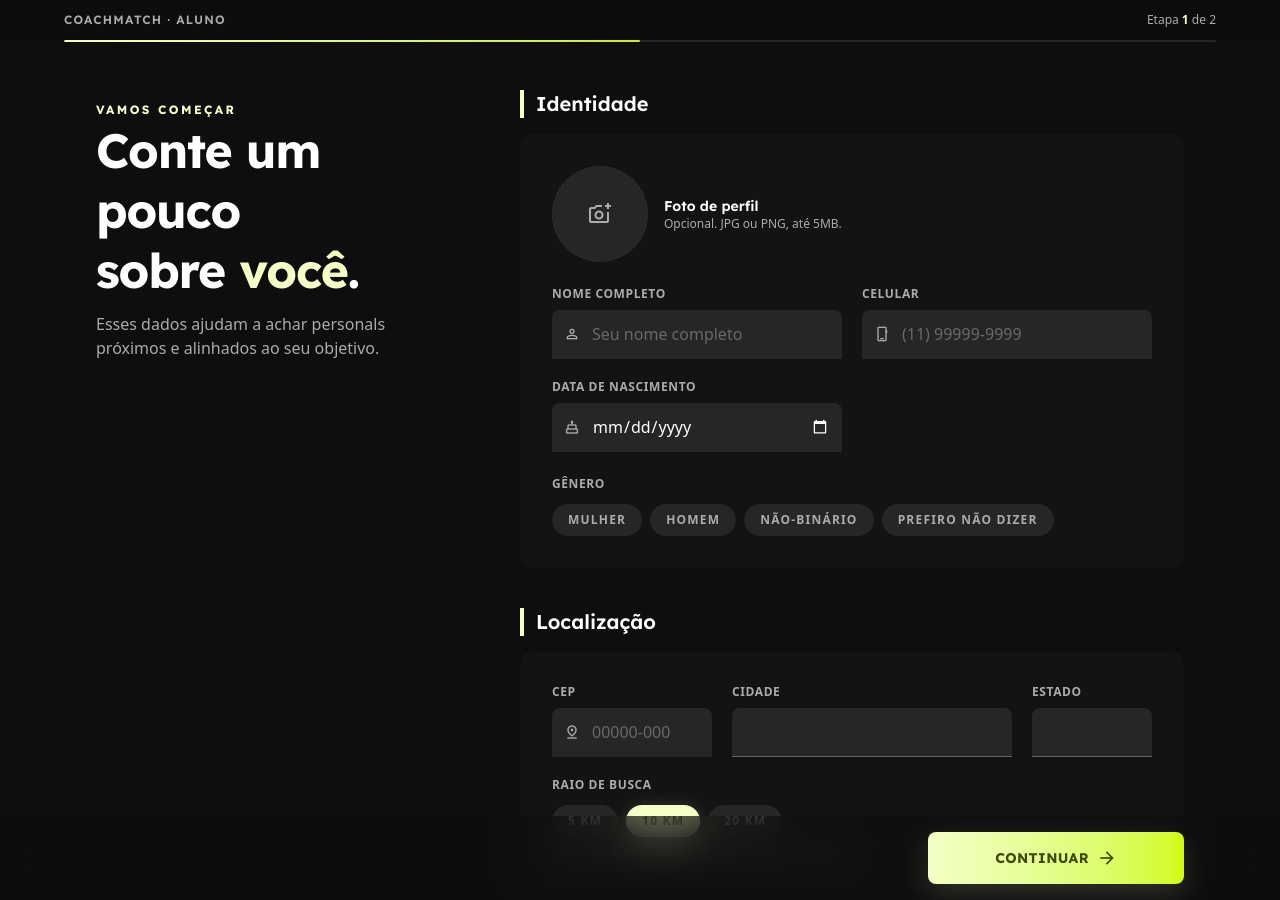
Test: ClientOnboardingPage › mostra erros de validação ao tentar continuar com formulário vazio
What coordinates should you click on to do the following:
click the button "CONTINUAR"
I would click on:
 (1056, 858)
Its box is [928,832,1184,884].
(page scrolled)
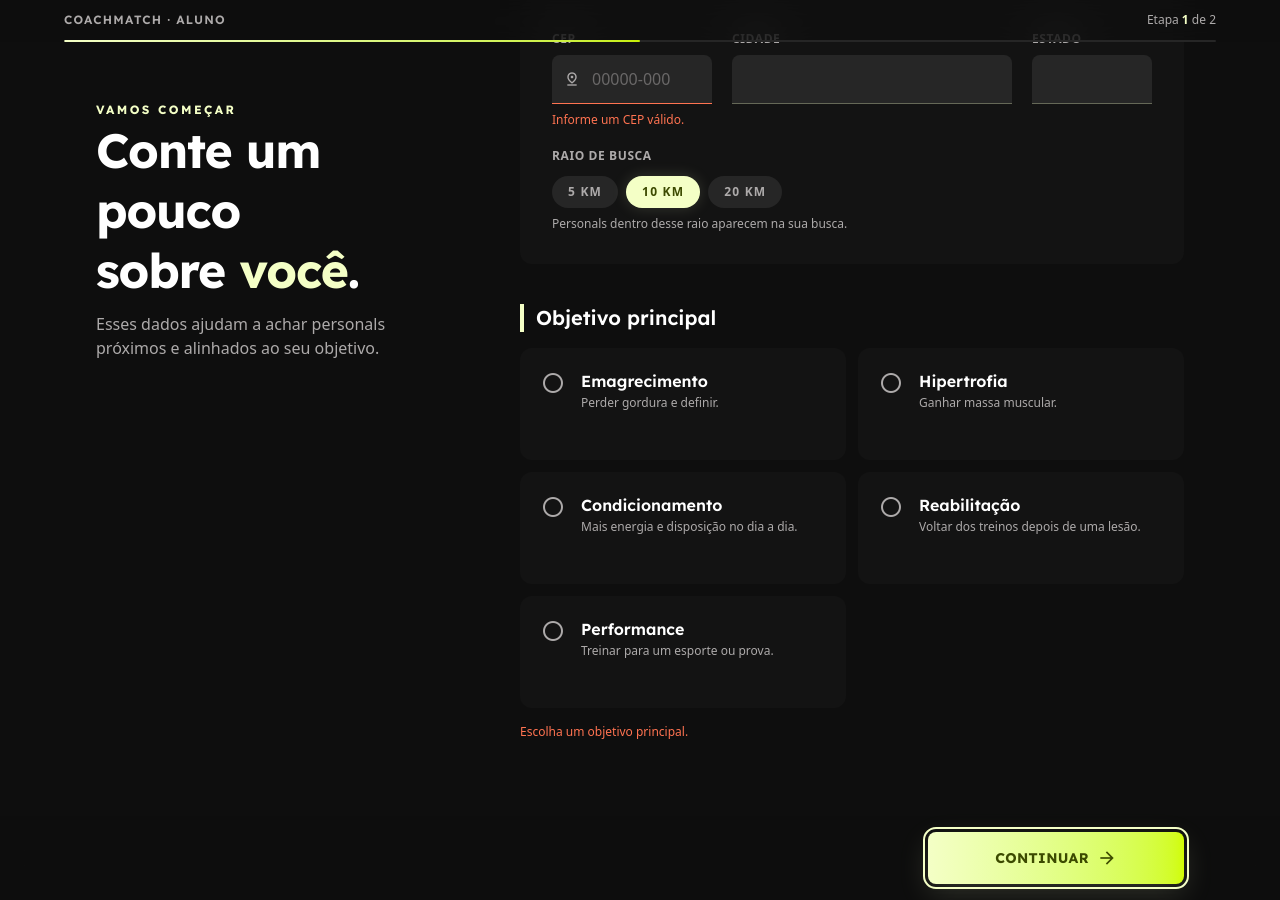
Result: the text "Informe um CEP válido." is shown at [552,111,684,128]
Result: the text "Escolha um objetivo principal." is shown at [520,723,688,740]
